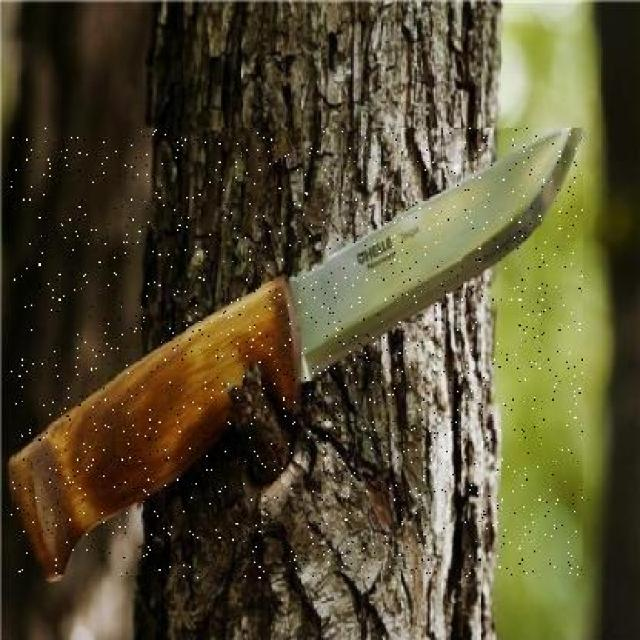knife: (11, 127, 583, 578)
